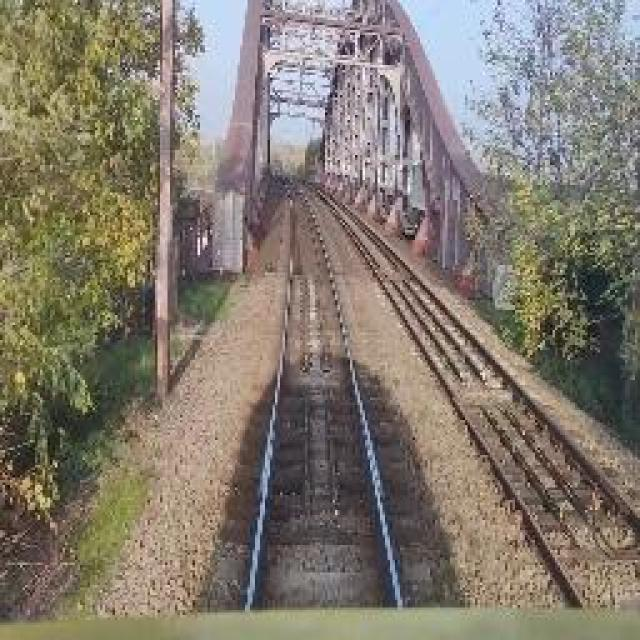rail: (304, 185, 640, 611), (208, 179, 438, 610)
